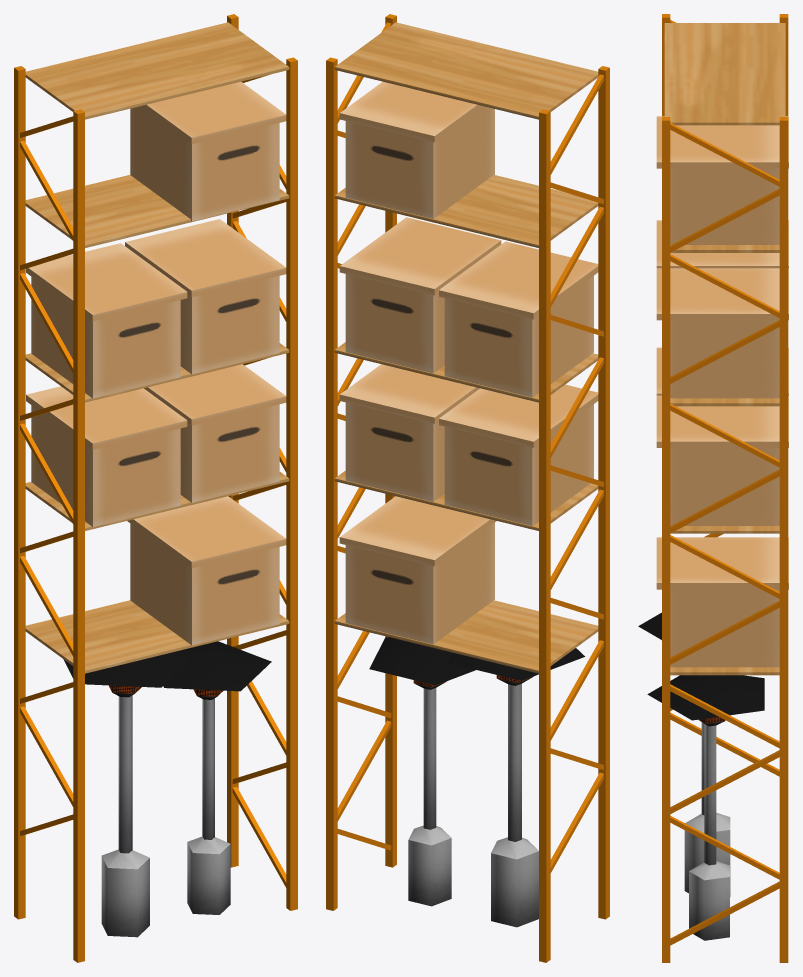
File: Heater_Rack.fbx
The picture shows the model from 3 angles, left to right: view 1: azimuth 30°, elevation 25°; view 2: azimuth 150°, elevation 25°; view 3: azimuth 270°, elevation 25°; orthographic projection.
Parts seen in each view (by area): view 1: Heater_Rack; view 2: Heater_Rack; view 3: Heater_Rack.
Part boxes in pixels (bbox=[...]): Heater_Rack: bbox=[14, 14, 297, 962]; Heater_Rack: bbox=[326, 14, 609, 962]; Heater_Rack: bbox=[638, 14, 788, 962].
Bounding box in the file's own units: 2 × 7.37 × 1.2.
